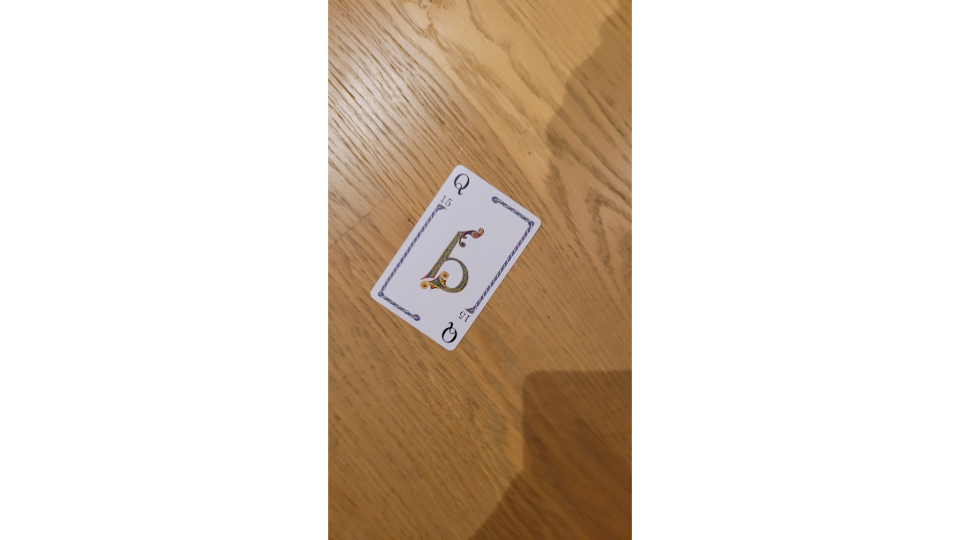Q: (368, 160, 547, 355)
